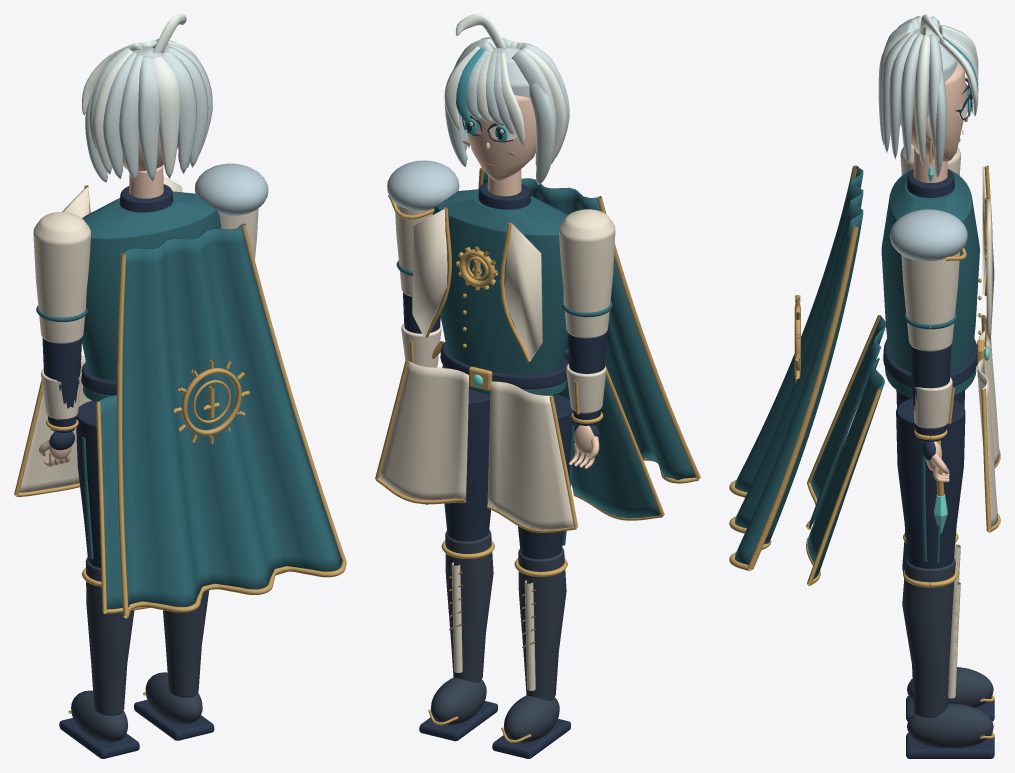
The model's file is traveler.glb.
3 renders of one model, left to right at view 1: azimuth 30°, elevation 25°; view 2: azimuth 150°, elevation 25°; view 3: azimuth 270°, elevation 25°, orthographic. The views are drawn at different scales.
Parts seen in each view (by area): view 1: Cape_teal_cloth.001, Head_anime_silver_hair, Torso_teal_cloth.001, Cape_gold, ArmL_anime_ivory, Knee_anime_boots, Knee.001_anime_boots, Head_anime_hair_light, Rig_teal_cloth.001, ArmR_anime_silver, Rig_anime_ivory, LegL_anime_navy (+9 smaller); view 2: Rig_anime_ivory, Torso_teal_cloth.001, Cape_teal_cloth.001, Torso_anime_ivory, Head_anime_silver_hair, Knee.001_anime_boots, Knee_anime_boots, ArmL_anime_ivory, Rig_teal_cloth.001, Head_anime_hair_light, LegR_anime_navy, Head_anime_skin (+18 smaller); view 3: Cape_teal_cloth.001, Knee.001_anime_boots, Torso_teal_cloth.001, LegR_anime_navy, Head_anime_silver_hair, Rig_teal_cloth.001, ArmR_anime_ivory, Cape_gold, Head_anime_hair_light, ArmR_anime_silver, Rig_anime_gold, Head_anime_skin (+13 smaller).
Boxes of the visible parts, left/top/right/bottom form: Cape_teal_cloth.001: left=122, top=224, right=342, bottom=607; Head_anime_silver_hair: left=85, top=40, right=212, bottom=182; Torso_teal_cloth.001: left=82, top=191, right=221, bottom=401; Cape_gold: left=117, top=223, right=346, bottom=618; ArmL_anime_ivory: left=33, top=212, right=90, bottom=343; Knee_anime_boots: left=71, top=557, right=134, bottom=742; Knee.001_anime_boots: left=145, top=590, right=209, bottom=724; Head_anime_hair_light: left=82, top=14, right=198, bottom=178; Rig_teal_cloth.001: left=97, top=395, right=122, bottom=609; ArmR_anime_silver: left=194, top=163, right=268, bottom=215; Rig_anime_ivory: left=19, top=356, right=91, bottom=492; LegL_anime_navy: left=76, top=401, right=101, bottom=568; Rig_anime_ivory: left=379, top=360, right=573, bottom=529; Torso_teal_cloth.001: left=432, top=189, right=567, bottom=395; Cape_teal_cloth.001: left=482, top=169, right=695, bottom=480; Torso_anime_ivory: left=412, top=208, right=542, bottom=359; Head_anime_silver_hair: left=444, top=37, right=569, bottom=184; Knee.001_anime_boots: left=431, top=530, right=493, bottom=725; Knee_anime_boots: left=504, top=547, right=566, bottom=743; ArmL_anime_ivory: left=559, top=209, right=615, bottom=338; Rig_teal_cloth.001: left=423, top=349, right=660, bottom=518; Head_anime_hair_light: left=444, top=14, right=566, bottom=163; LegR_anime_navy: left=444, top=389, right=490, bottom=541; Head_anime_skin: left=467, top=94, right=536, bottom=196; Cape_teal_cloth.001: left=735, top=167, right=863, bottom=564; Knee.001_anime_boots: left=902, top=558, right=993, bottom=747; Torso_teal_cloth.001: left=881, top=169, right=979, bottom=397; LegR_anime_navy: left=896, top=398, right=965, bottom=568; Head_anime_silver_hair: left=881, top=16, right=978, bottom=177; Rig_teal_cloth.001: left=807, top=316, right=940, bottom=579; ArmR_anime_ivory: left=901, top=251, right=960, bottom=351; Cape_gold: left=729, top=165, right=858, bottom=571; Head_anime_hair_light: left=878, top=14, right=978, bottom=164; ArmR_anime_silver: left=889, top=209, right=967, bottom=261; Rig_anime_gold: left=806, top=315, right=1000, bottom=585; Head_anime_skin: left=900, top=62, right=966, bottom=182.
Size of the model in its own units: 0.6825 by 2.06 by 0.6943.
